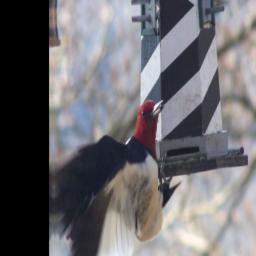Woodpecker: (52, 87, 180, 256)
